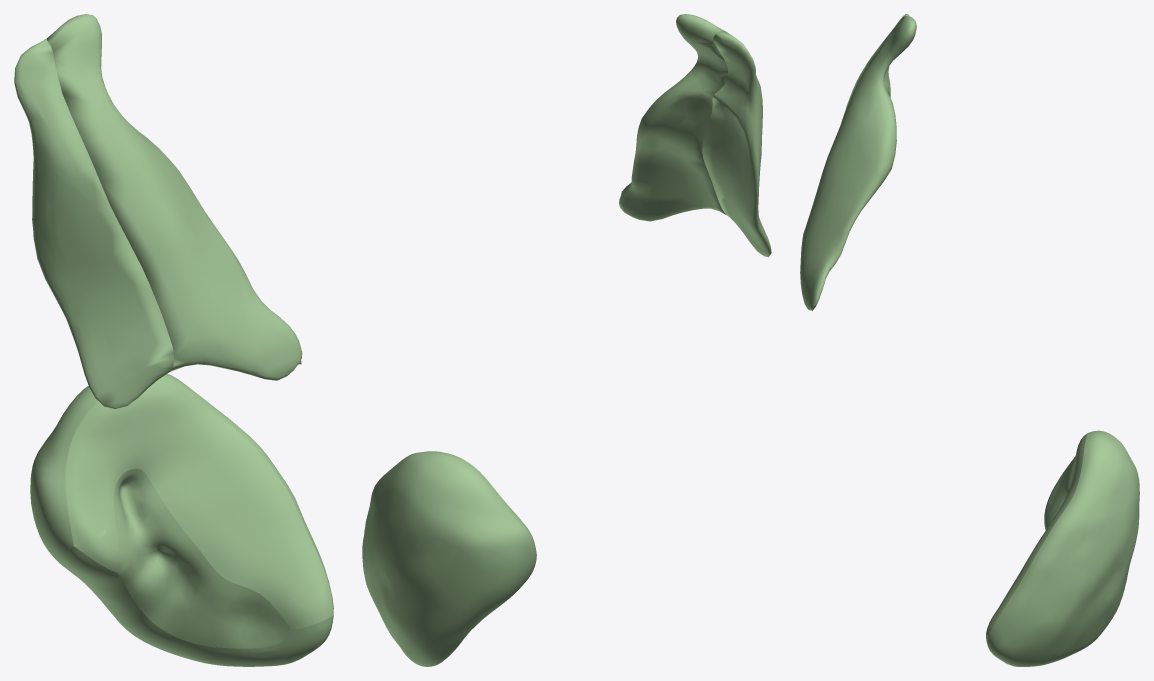
The model's file is adult_female.lymphatic.LOD0.glb.
3 views of the same model, side by side, from view 1: azimuth 30°, elevation 25°; view 2: azimuth 150°, elevation 25°; view 3: azimuth 270°, elevation 25° (orthographic). The views are drawn at different scales.
Parts seen in each view (by area): view 1: ADULT.FEMALE.LYMPHATIC.GASTRIC_SURFACE_OF_SPLEEN, ADULT.FEMALE.LYMPHATIC.THYMUS_LOBE.L, ADULT.FEMALE.LYMPHATIC.THYMUS_LOBE.R, ADULT.FEMALE.LYMPHATIC.HILUM_OF_SPLEEN, ADULT.FEMALE.LYMPHATIC.DIAPHRAGMATIC_SURFACE_OF_SPLEEN, ADULT.FEMALE.LYMPHATIC.RENAL_SURFACE_OF_SPLEEN, ADULT.FEMALE.LYMPHATIC.COLIC_SURFACE_OF_SPLEEN; view 2: ADULT.FEMALE.LYMPHATIC.DIAPHRAGMATIC_SURFACE_OF_SPLEEN, ADULT.FEMALE.LYMPHATIC.THYMUS_LOBE.L, ADULT.FEMALE.LYMPHATIC.THYMUS_LOBE.R; view 3: ADULT.FEMALE.LYMPHATIC.DIAPHRAGMATIC_SURFACE_OF_SPLEEN, ADULT.FEMALE.LYMPHATIC.THYMUS_LOBE.L, ADULT.FEMALE.LYMPHATIC.GASTRIC_SURFACE_OF_SPLEEN.
Boxes of the visible parts, box(x1,y1,x2,y2) form: ADULT.FEMALE.LYMPHATIC.GASTRIC_SURFACE_OF_SPLEEN: box(65, 382, 333, 628); ADULT.FEMALE.LYMPHATIC.THYMUS_LOBE.L: box(47, 14, 302, 380); ADULT.FEMALE.LYMPHATIC.THYMUS_LOBE.R: box(14, 38, 174, 409); ADULT.FEMALE.LYMPHATIC.HILUM_OF_SPLEEN: box(113, 468, 290, 648); ADULT.FEMALE.LYMPHATIC.DIAPHRAGMATIC_SURFACE_OF_SPLEEN: box(30, 374, 333, 666); ADULT.FEMALE.LYMPHATIC.RENAL_SURFACE_OF_SPLEEN: box(59, 546, 289, 666); ADULT.FEMALE.LYMPHATIC.COLIC_SURFACE_OF_SPLEEN: box(279, 616, 332, 662); ADULT.FEMALE.LYMPHATIC.DIAPHRAGMATIC_SURFACE_OF_SPLEEN: box(362, 451, 536, 666); ADULT.FEMALE.LYMPHATIC.THYMUS_LOBE.L: box(619, 14, 727, 221); ADULT.FEMALE.LYMPHATIC.THYMUS_LOBE.R: box(702, 30, 771, 257); ADULT.FEMALE.LYMPHATIC.DIAPHRAGMATIC_SURFACE_OF_SPLEEN: box(987, 430, 1139, 666); ADULT.FEMALE.LYMPHATIC.THYMUS_LOBE.L: box(800, 16, 916, 310); ADULT.FEMALE.LYMPHATIC.GASTRIC_SURFACE_OF_SPLEEN: box(986, 434, 1086, 635).
Bounding box in the file's own units: 0.147 × 0.2822 × 0.1566.
